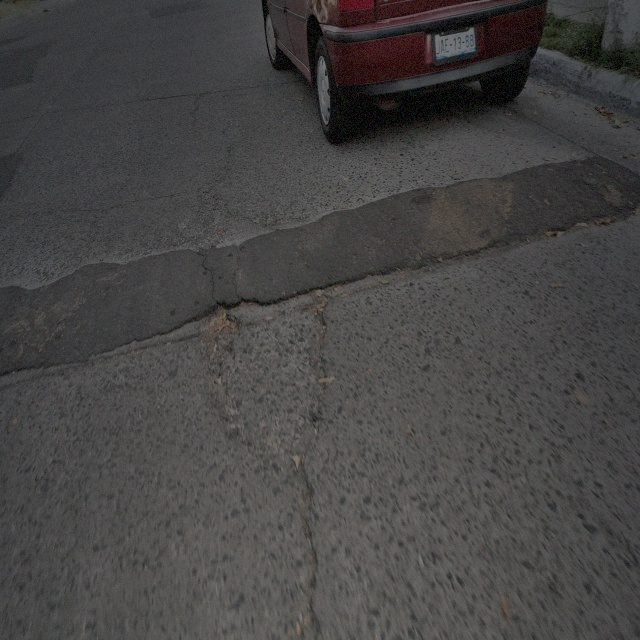pothole: (196, 296, 238, 408), (304, 306, 334, 383)
